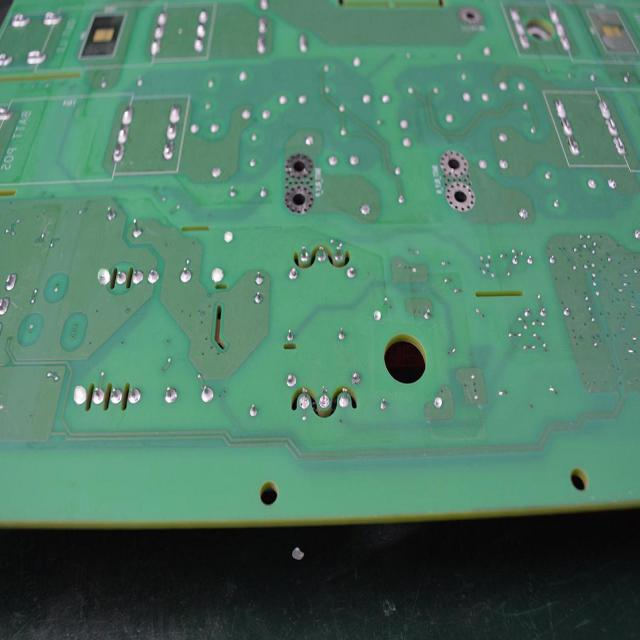slug: (166, 100, 182, 124), (552, 94, 566, 120), (120, 102, 134, 127), (596, 95, 610, 119), (602, 118, 618, 138), (116, 124, 129, 145), (164, 122, 179, 140), (560, 119, 574, 138)
